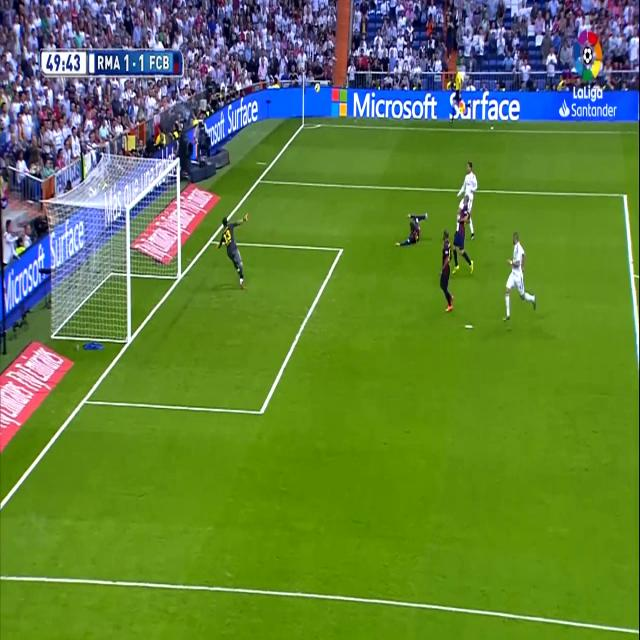bigarea_bottom_inner: (254, 396, 266, 426)
bigarea_top_outter: (254, 171, 263, 188)
corner: (299, 118, 309, 130)
smallarea_bottom_outter: (78, 386, 90, 412)
smallarea_top_outter: (206, 231, 214, 249)
